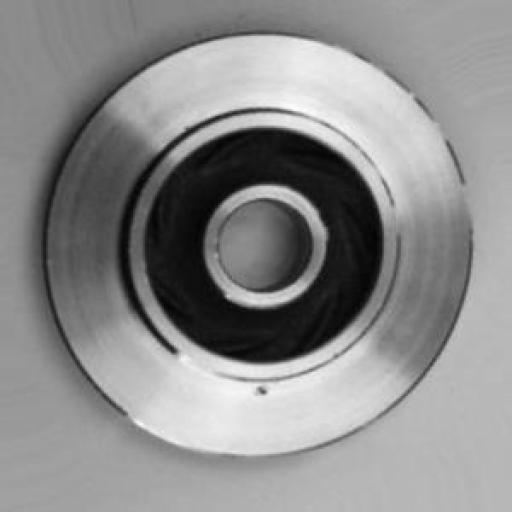defect: (235, 372, 285, 418)
